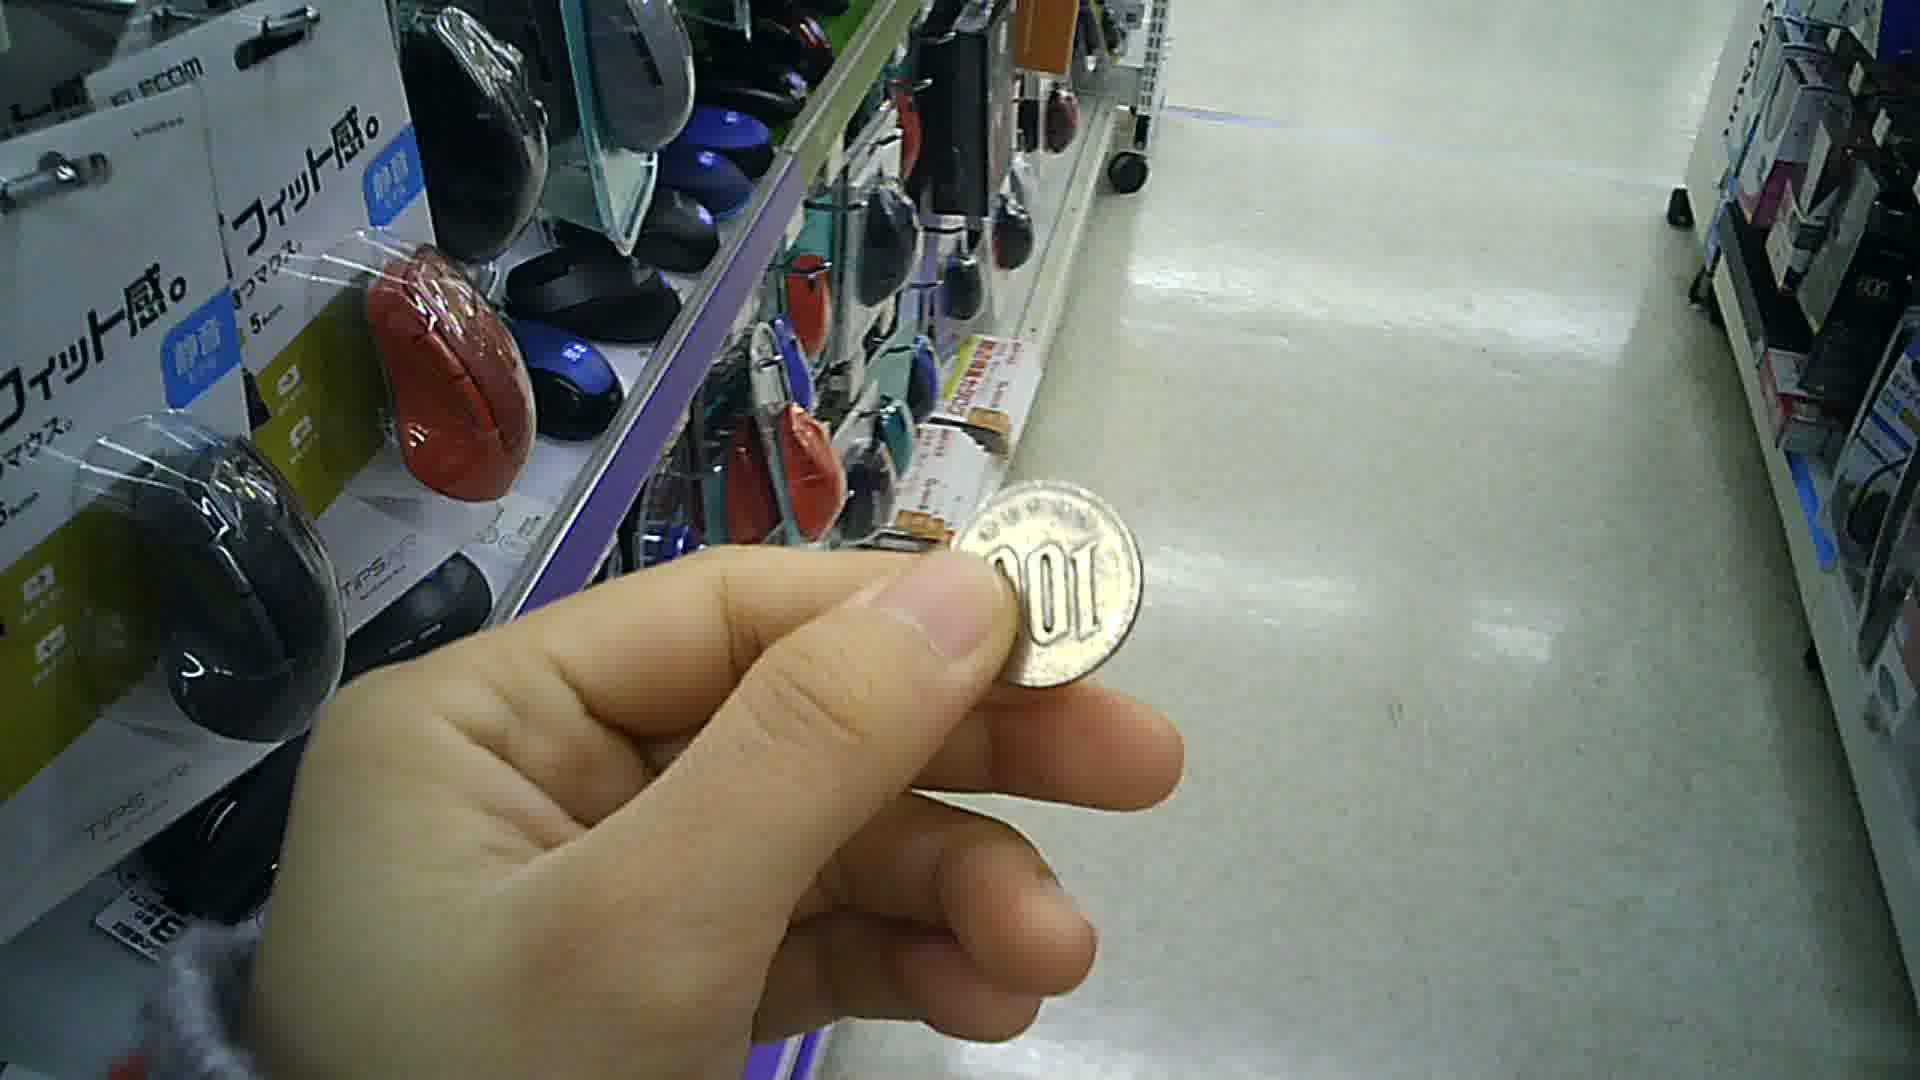100 Yen: (939, 471, 1153, 702)
